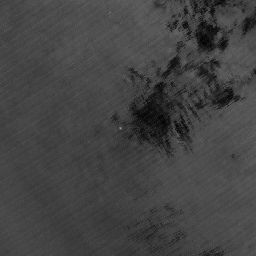Target: (117, 124, 125, 132)
